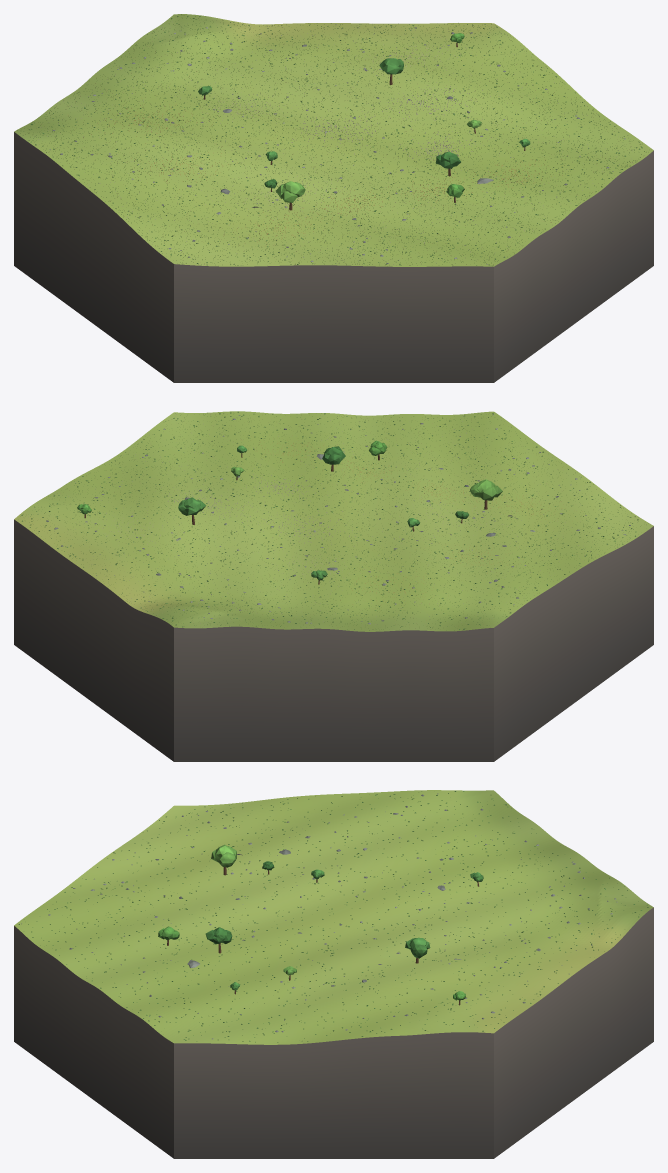
3 renders of one model, top to bottom at view 1: azimuth 30°, elevation 25°; view 2: azimuth 150°, elevation 25°; view 3: azimuth 270°, elevation 25°, orthographic.
Parts seen in each view (by area): view 1: terrain, hex_side_cut, wildflowers, shrubs, broadleaf_canopy, boulders; view 2: terrain, hex_side_cut, wildflowers, shrubs, broadleaf_canopy, boulders; view 3: terrain, hex_side_cut, shrubs, broadleaf_canopy, boulders.
Part boxes in pixels (box(x1,y1,x2,y2)): terrain: box(14, 14, 653, 266); hex_side_cut: box(14, 132, 653, 382); wildflowers: box(17, 14, 651, 265); shrubs: box(23, 16, 642, 265); broadleaf_canopy: box(198, 33, 530, 202); boulders: box(49, 24, 625, 264); terrain: box(14, 411, 653, 631); hex_side_cut: box(14, 519, 653, 761); wildflowers: box(20, 412, 648, 630); shrubs: box(21, 411, 638, 630); broadleaf_canopy: box(77, 440, 502, 580); boulders: box(46, 414, 630, 624); terrain: box(14, 790, 653, 1044); hex_side_cut: box(14, 907, 653, 1158); shrubs: box(18, 791, 648, 1042); broadleaf_canopy: box(158, 844, 483, 1000); boulders: box(21, 793, 617, 1039).
Size of the model in its own units: 4330 by 1315 by 5000.
